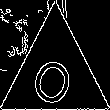O_NE: (28, 40, 82, 106)
